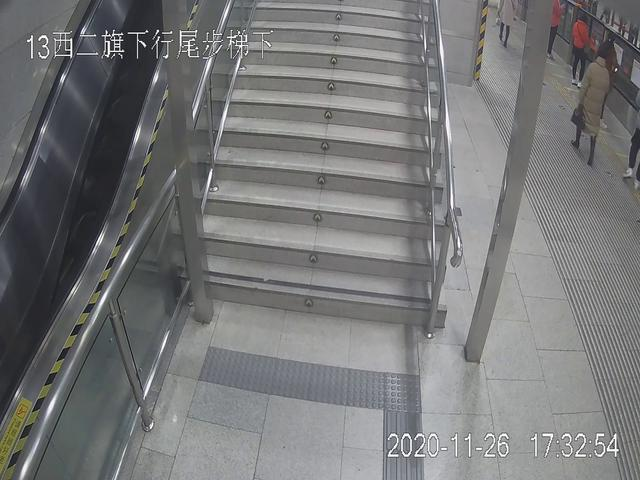person: (571, 44, 612, 161), (565, 11, 593, 87), (490, 1, 519, 46)
